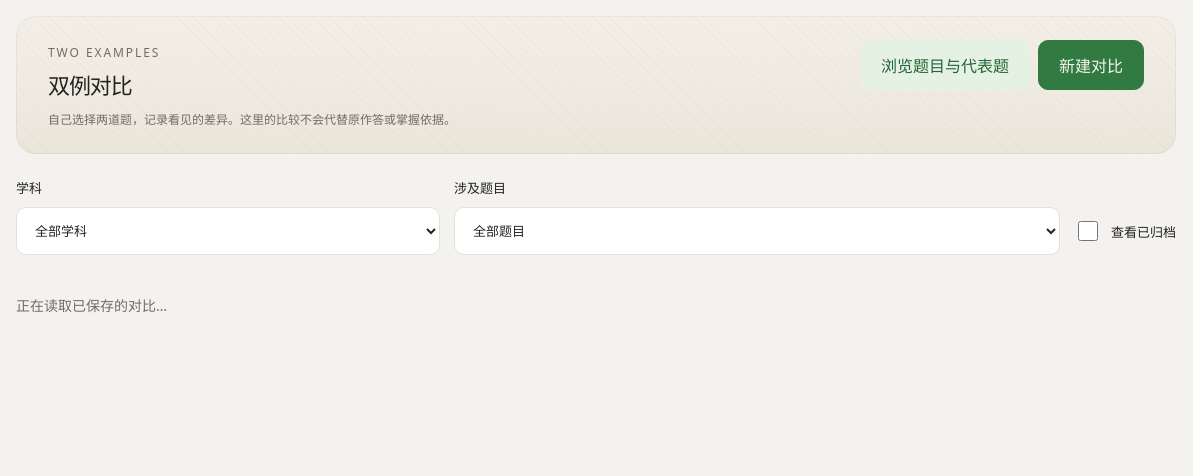
Test case: problem comparison workflows › allows skipping selection without sending a comparison write
Click the button "新建对比" at (1091, 65), box [1038,40,1144,90]
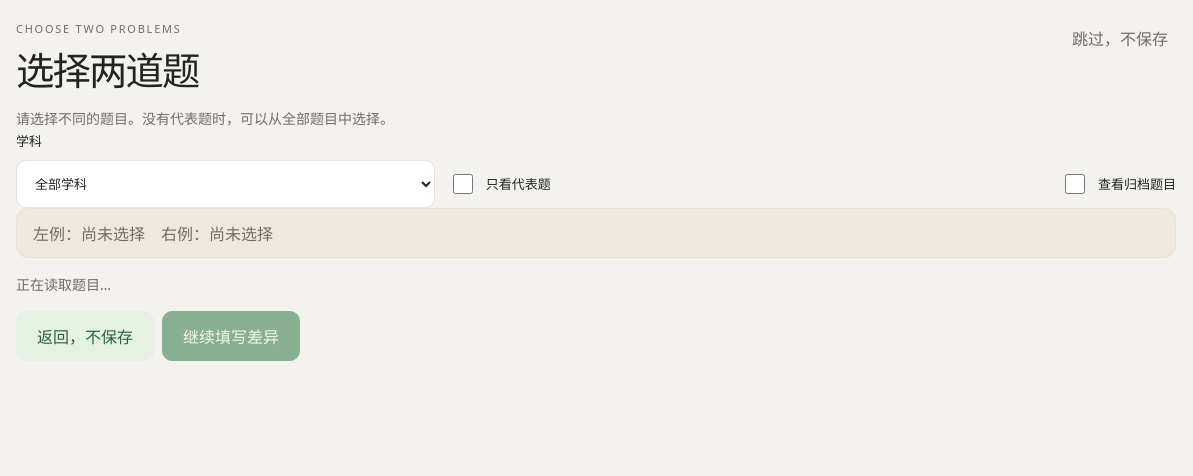
Click the button "跳过，不保存" at (1120, 38), box [1064,16,1176,60]
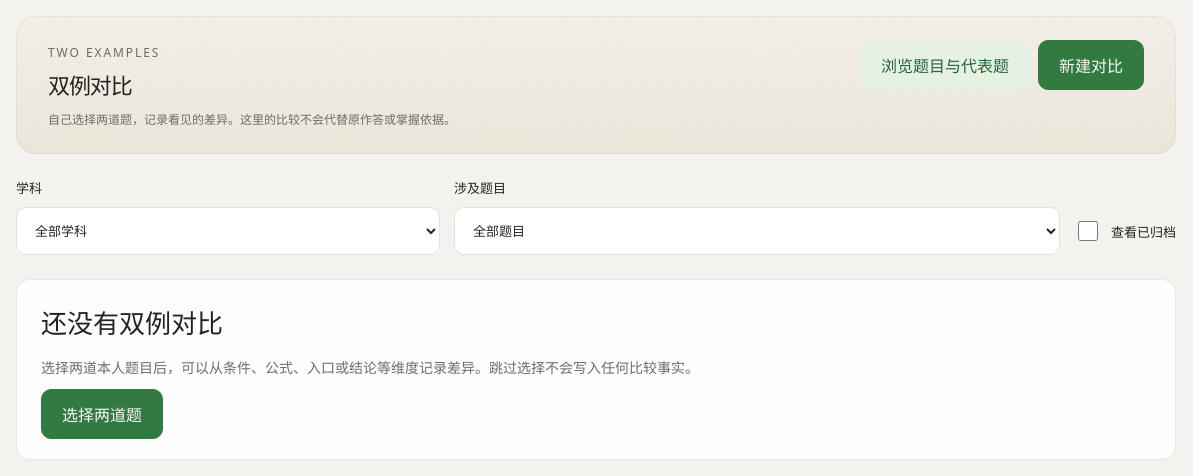
Check: the heading "双例对比" is shown, box [48,70,132,100]
